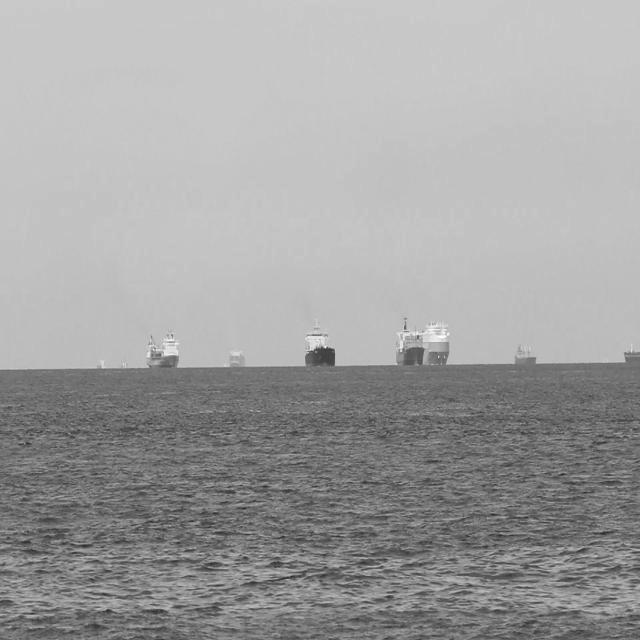ship: (303, 313, 337, 369), (394, 308, 426, 365), (142, 328, 180, 370), (422, 311, 450, 366), (512, 338, 538, 364), (226, 347, 246, 369), (622, 336, 638, 363), (96, 348, 109, 368), (118, 352, 130, 369)
